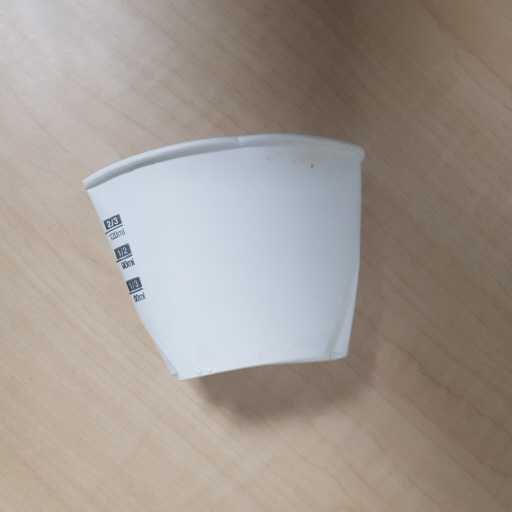Paper_1: (82, 131, 367, 379)
